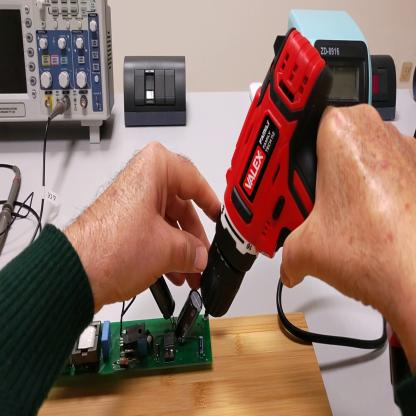electric screwdriver: (203, 27, 416, 415)
hand: (279, 93, 412, 322), (91, 142, 225, 309)
high voltage board: (59, 277, 215, 377)
oscilloscope: (2, 2, 116, 142)
oscilloscope probe tip: (1, 172, 22, 260)
socket: (369, 55, 399, 123)
welder station: (290, 7, 374, 106)
working area: (39, 312, 334, 416)
